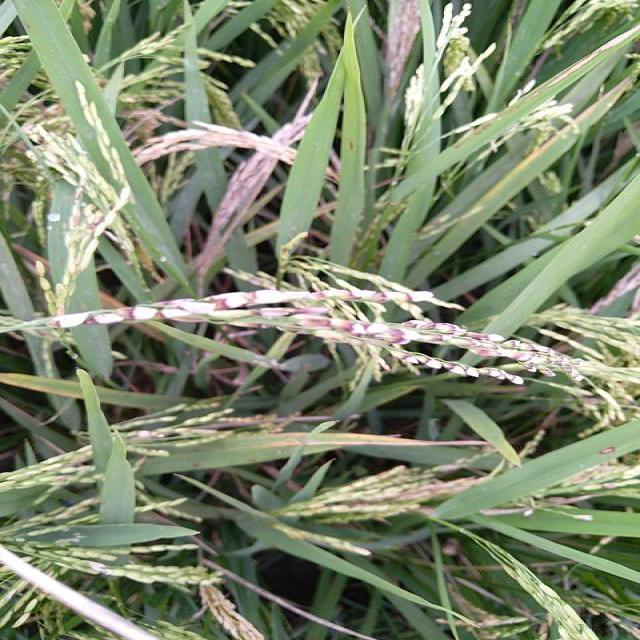Panicle Blight: (46, 291, 584, 384)
